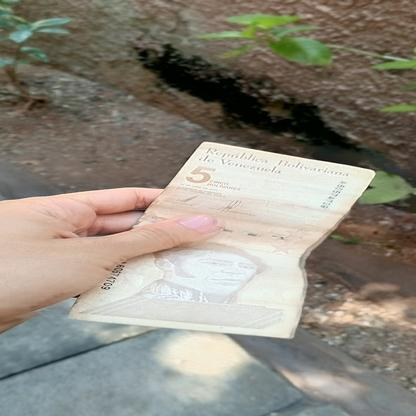five-front-vef: (65, 140, 376, 340)
